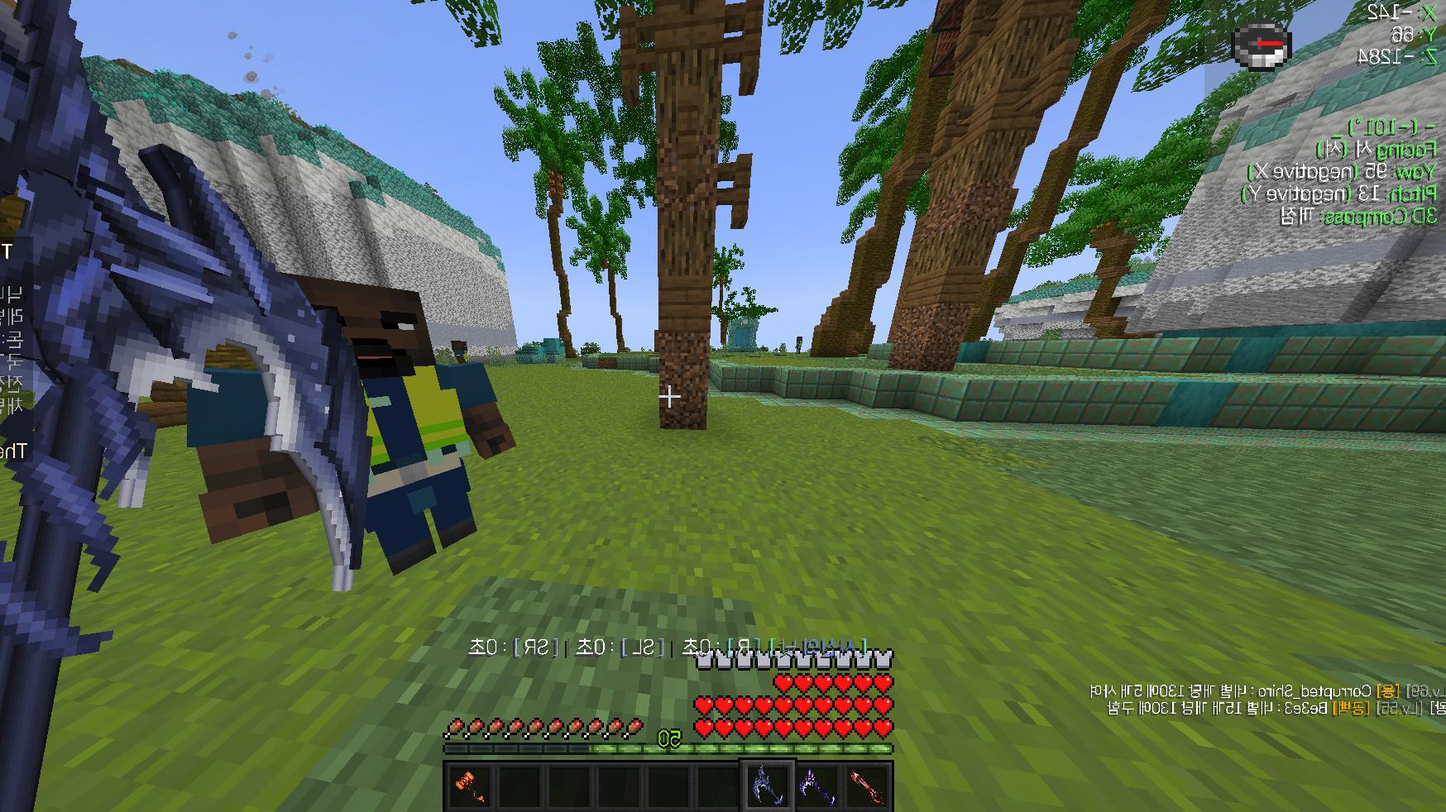Guardian: (293, 277, 515, 574), (189, 389, 318, 542)
